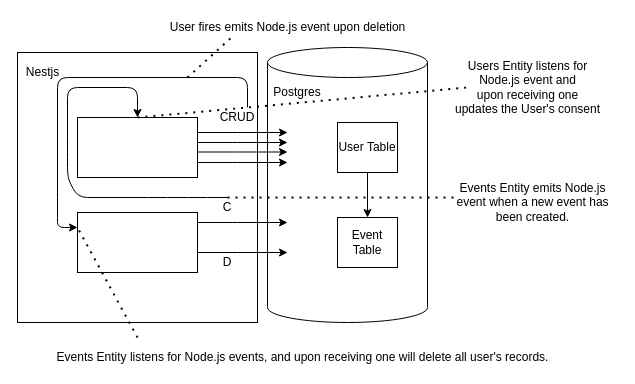
Image size: 635x384. Some labels were removed from this diagram. The centre of each missing label's shape, as x and y in pixels:
Events Entity: (137,242)
Users Entity: (137,147)
